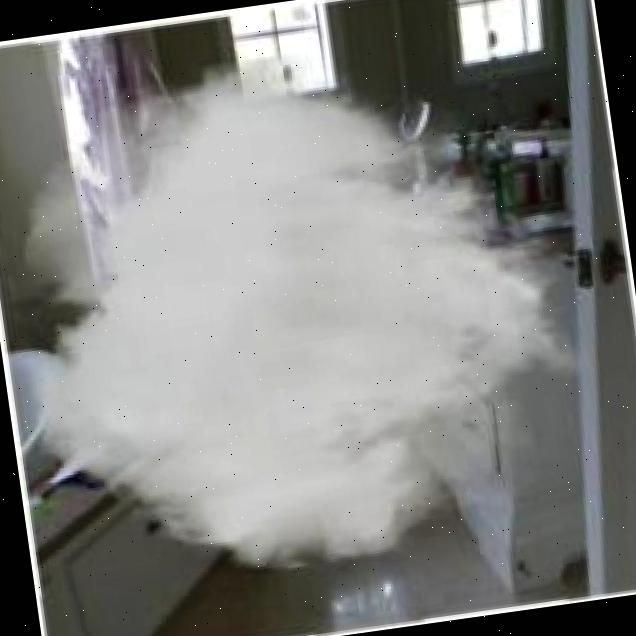smoke: (0, 19, 616, 610)
